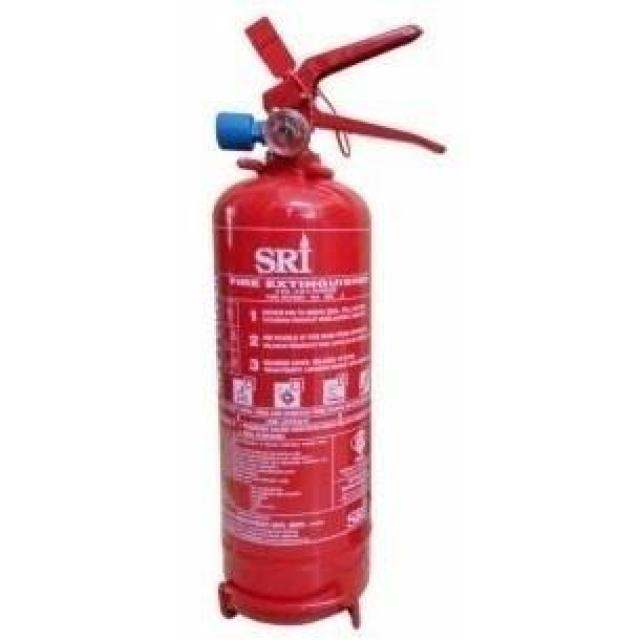fire_extinguisher: (192, 9, 450, 628)
